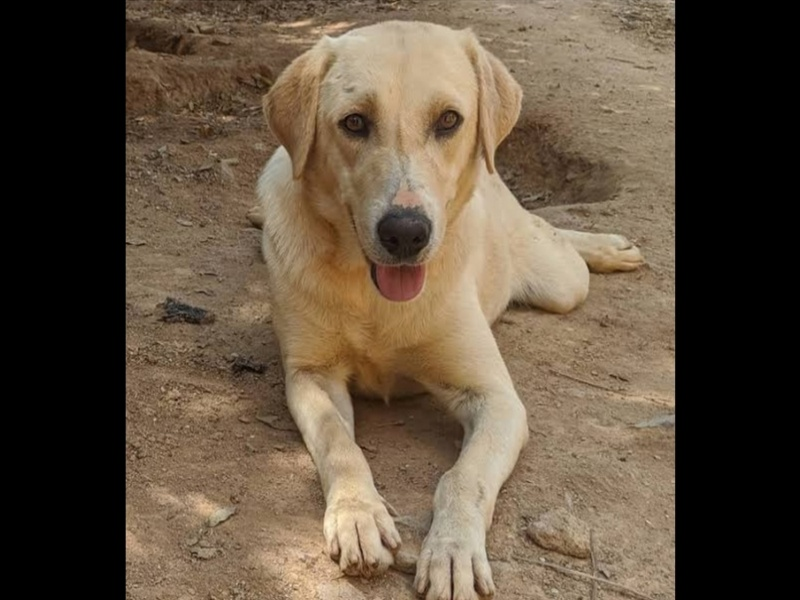dog: (248, 16, 645, 600)
